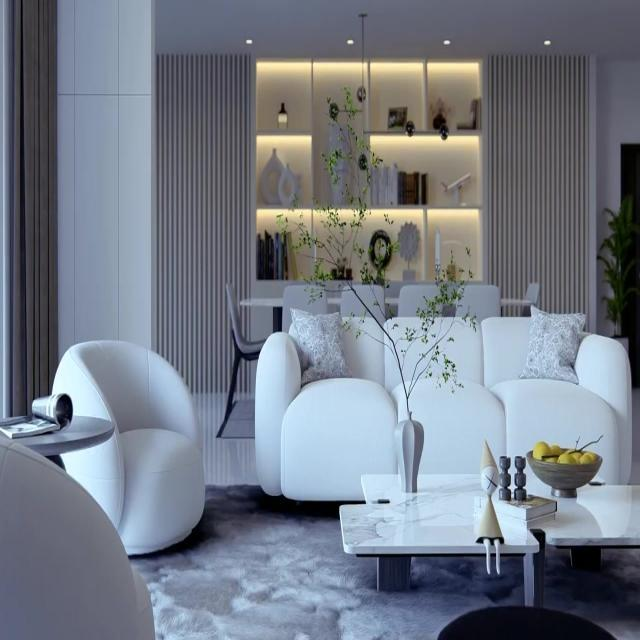obstacle: (254, 311, 632, 503), (345, 470, 640, 595), (52, 337, 205, 552), (0, 410, 114, 468), (222, 289, 272, 421)
